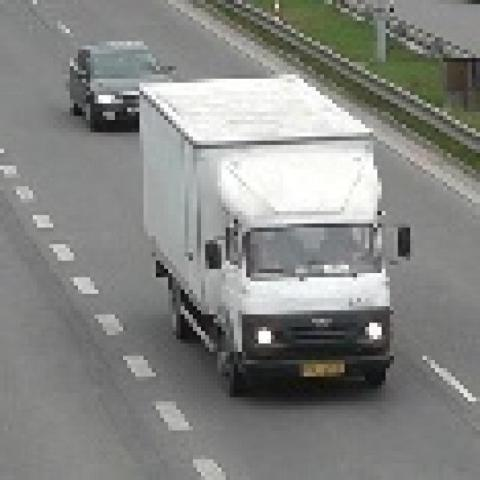truck: (144, 62, 414, 397)
